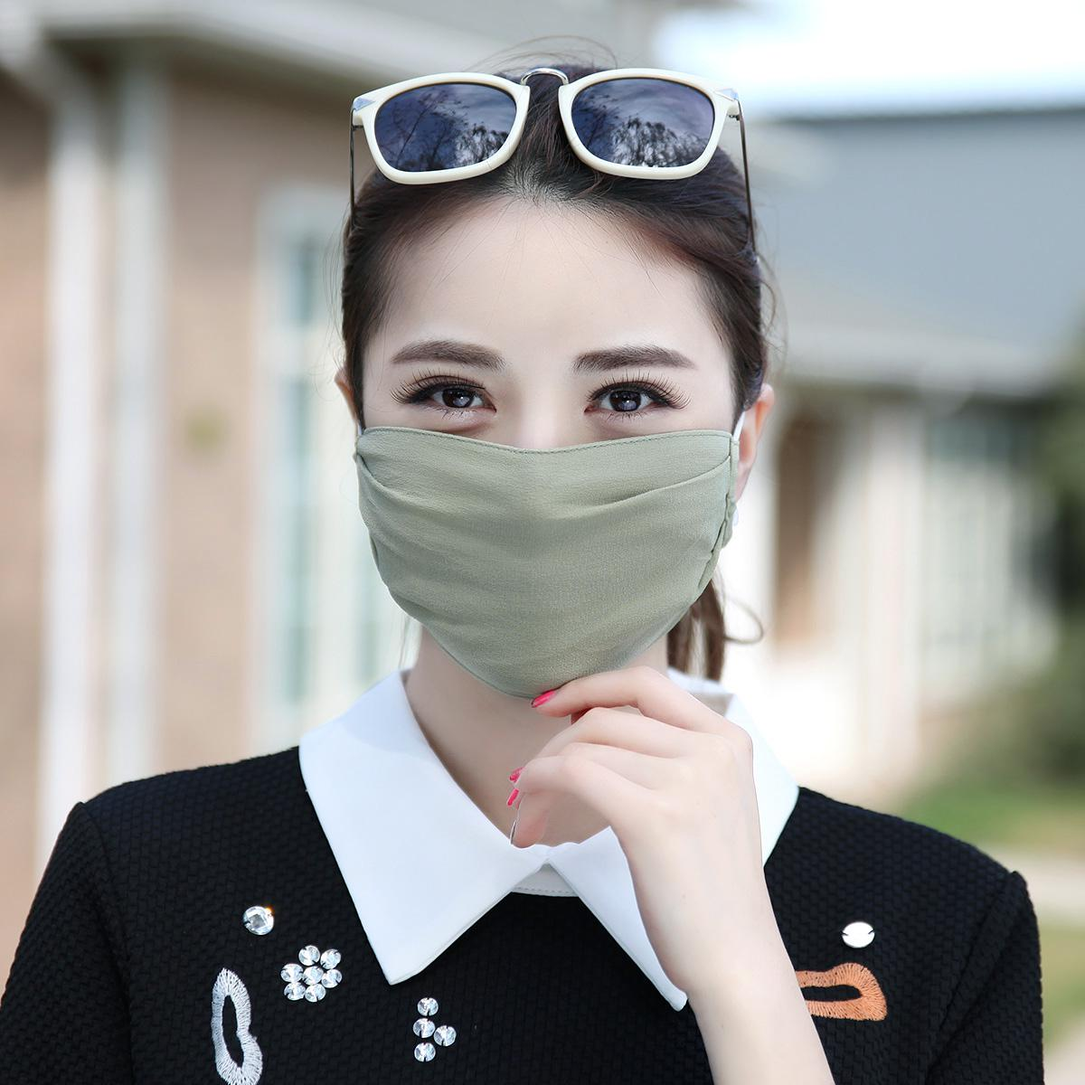OK: (354, 316, 733, 688)
